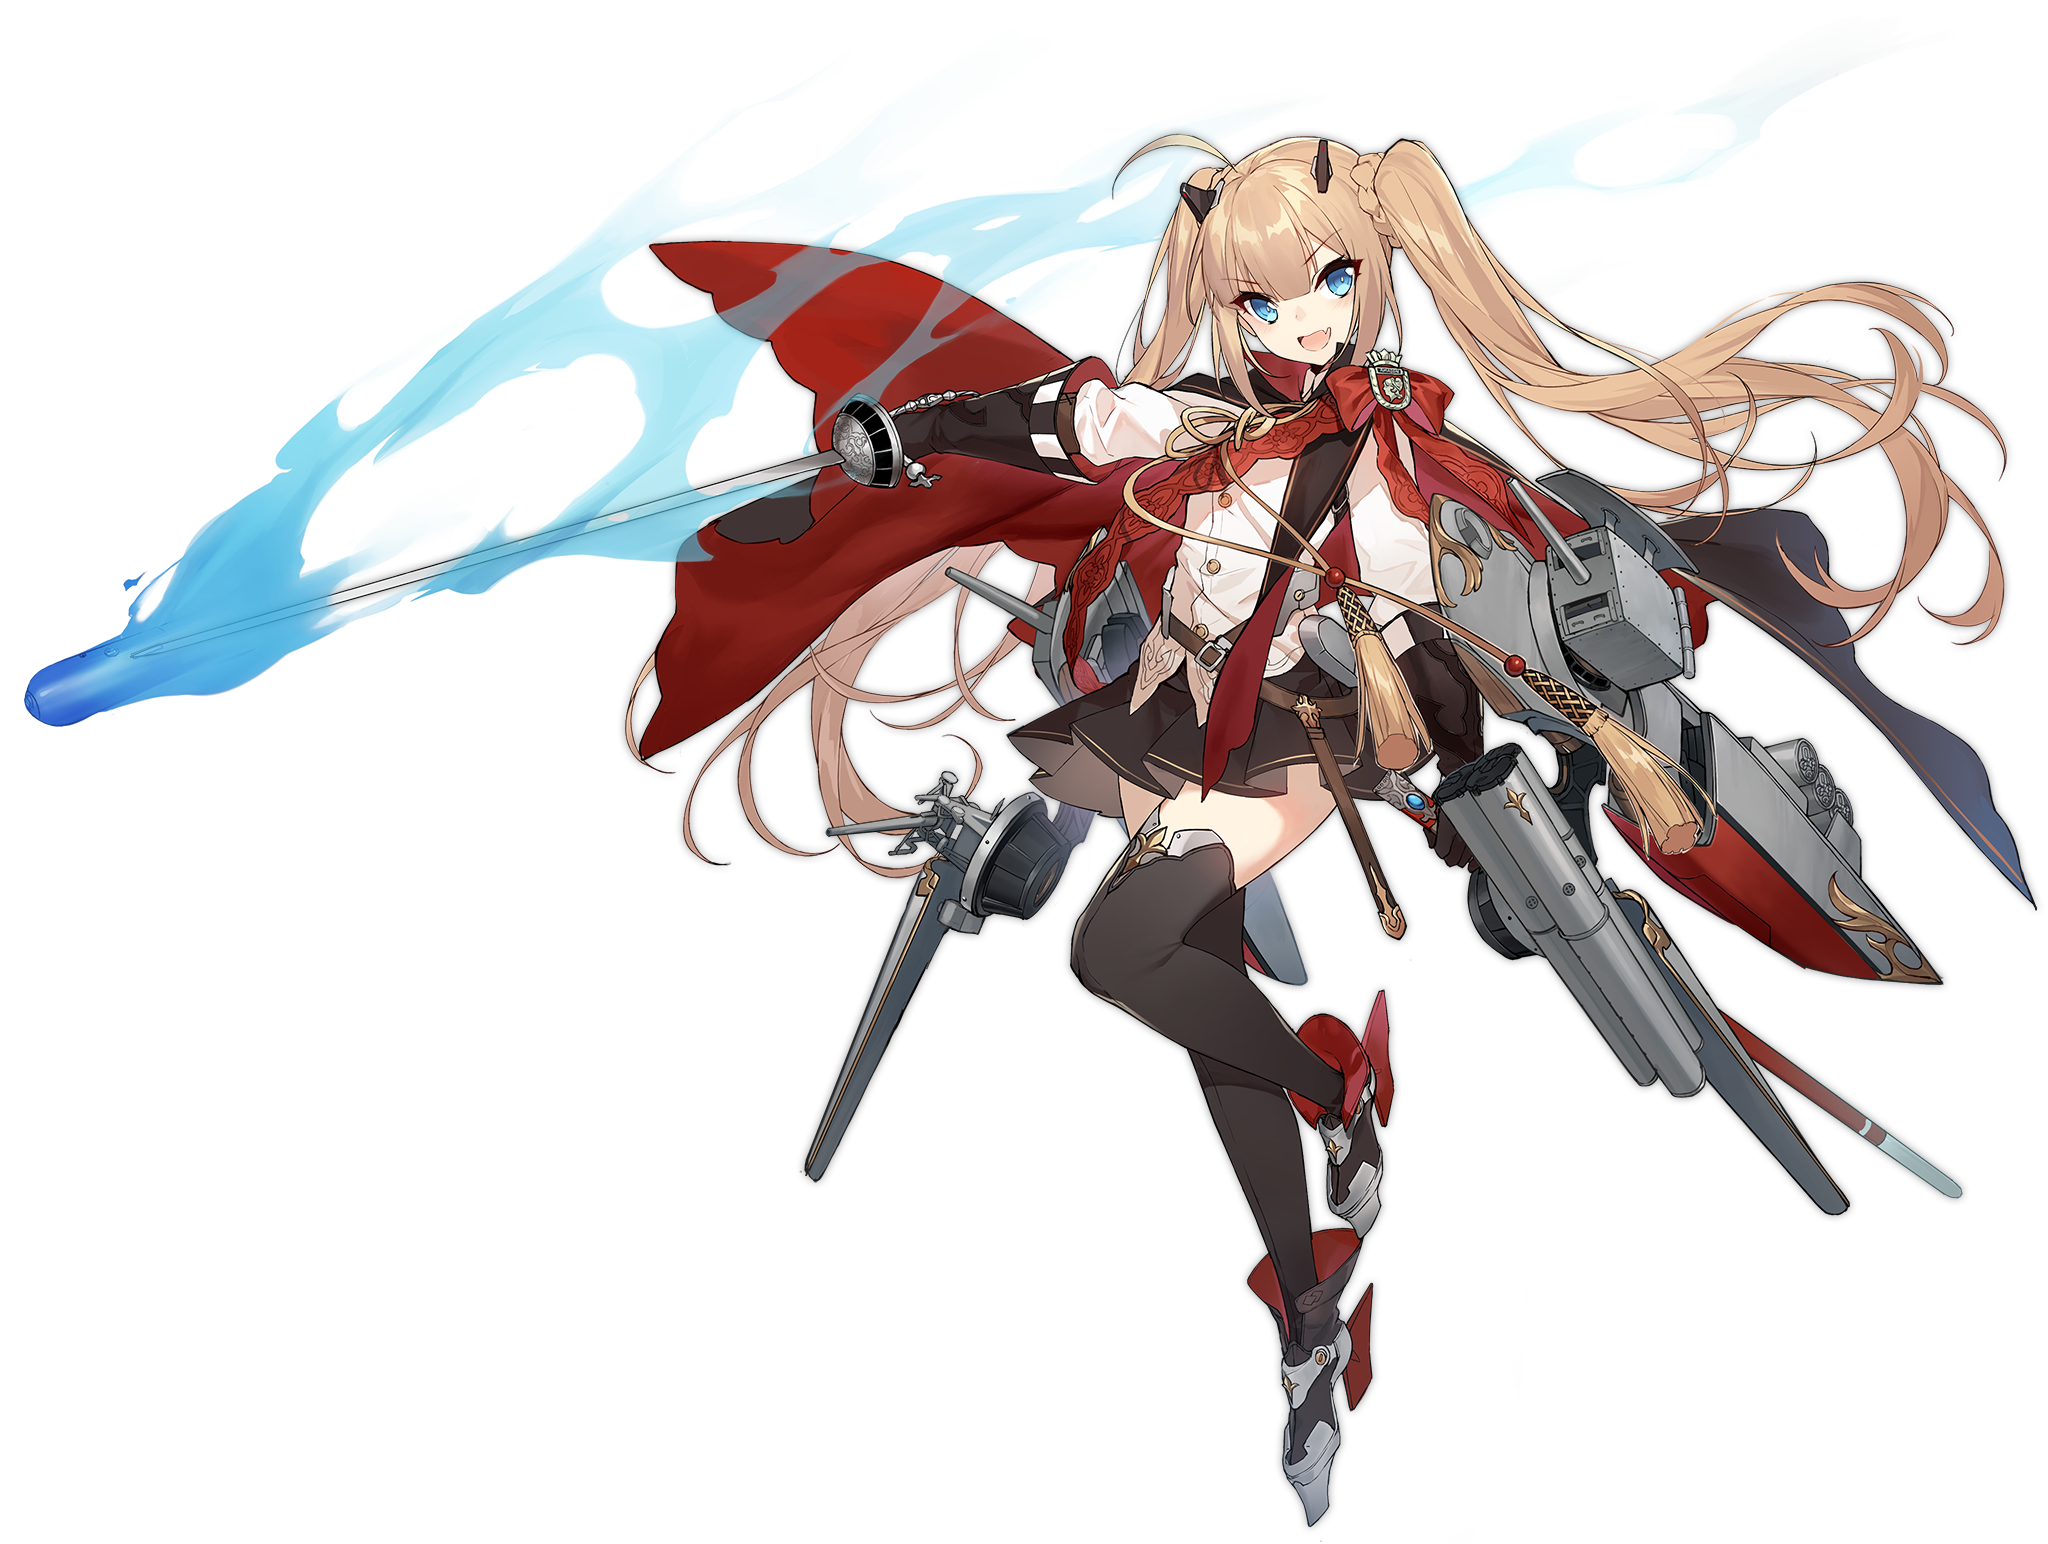person: (932, 137, 1481, 1265)
